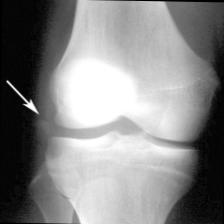avulsion-fracture: (17, 0, 222, 224)
